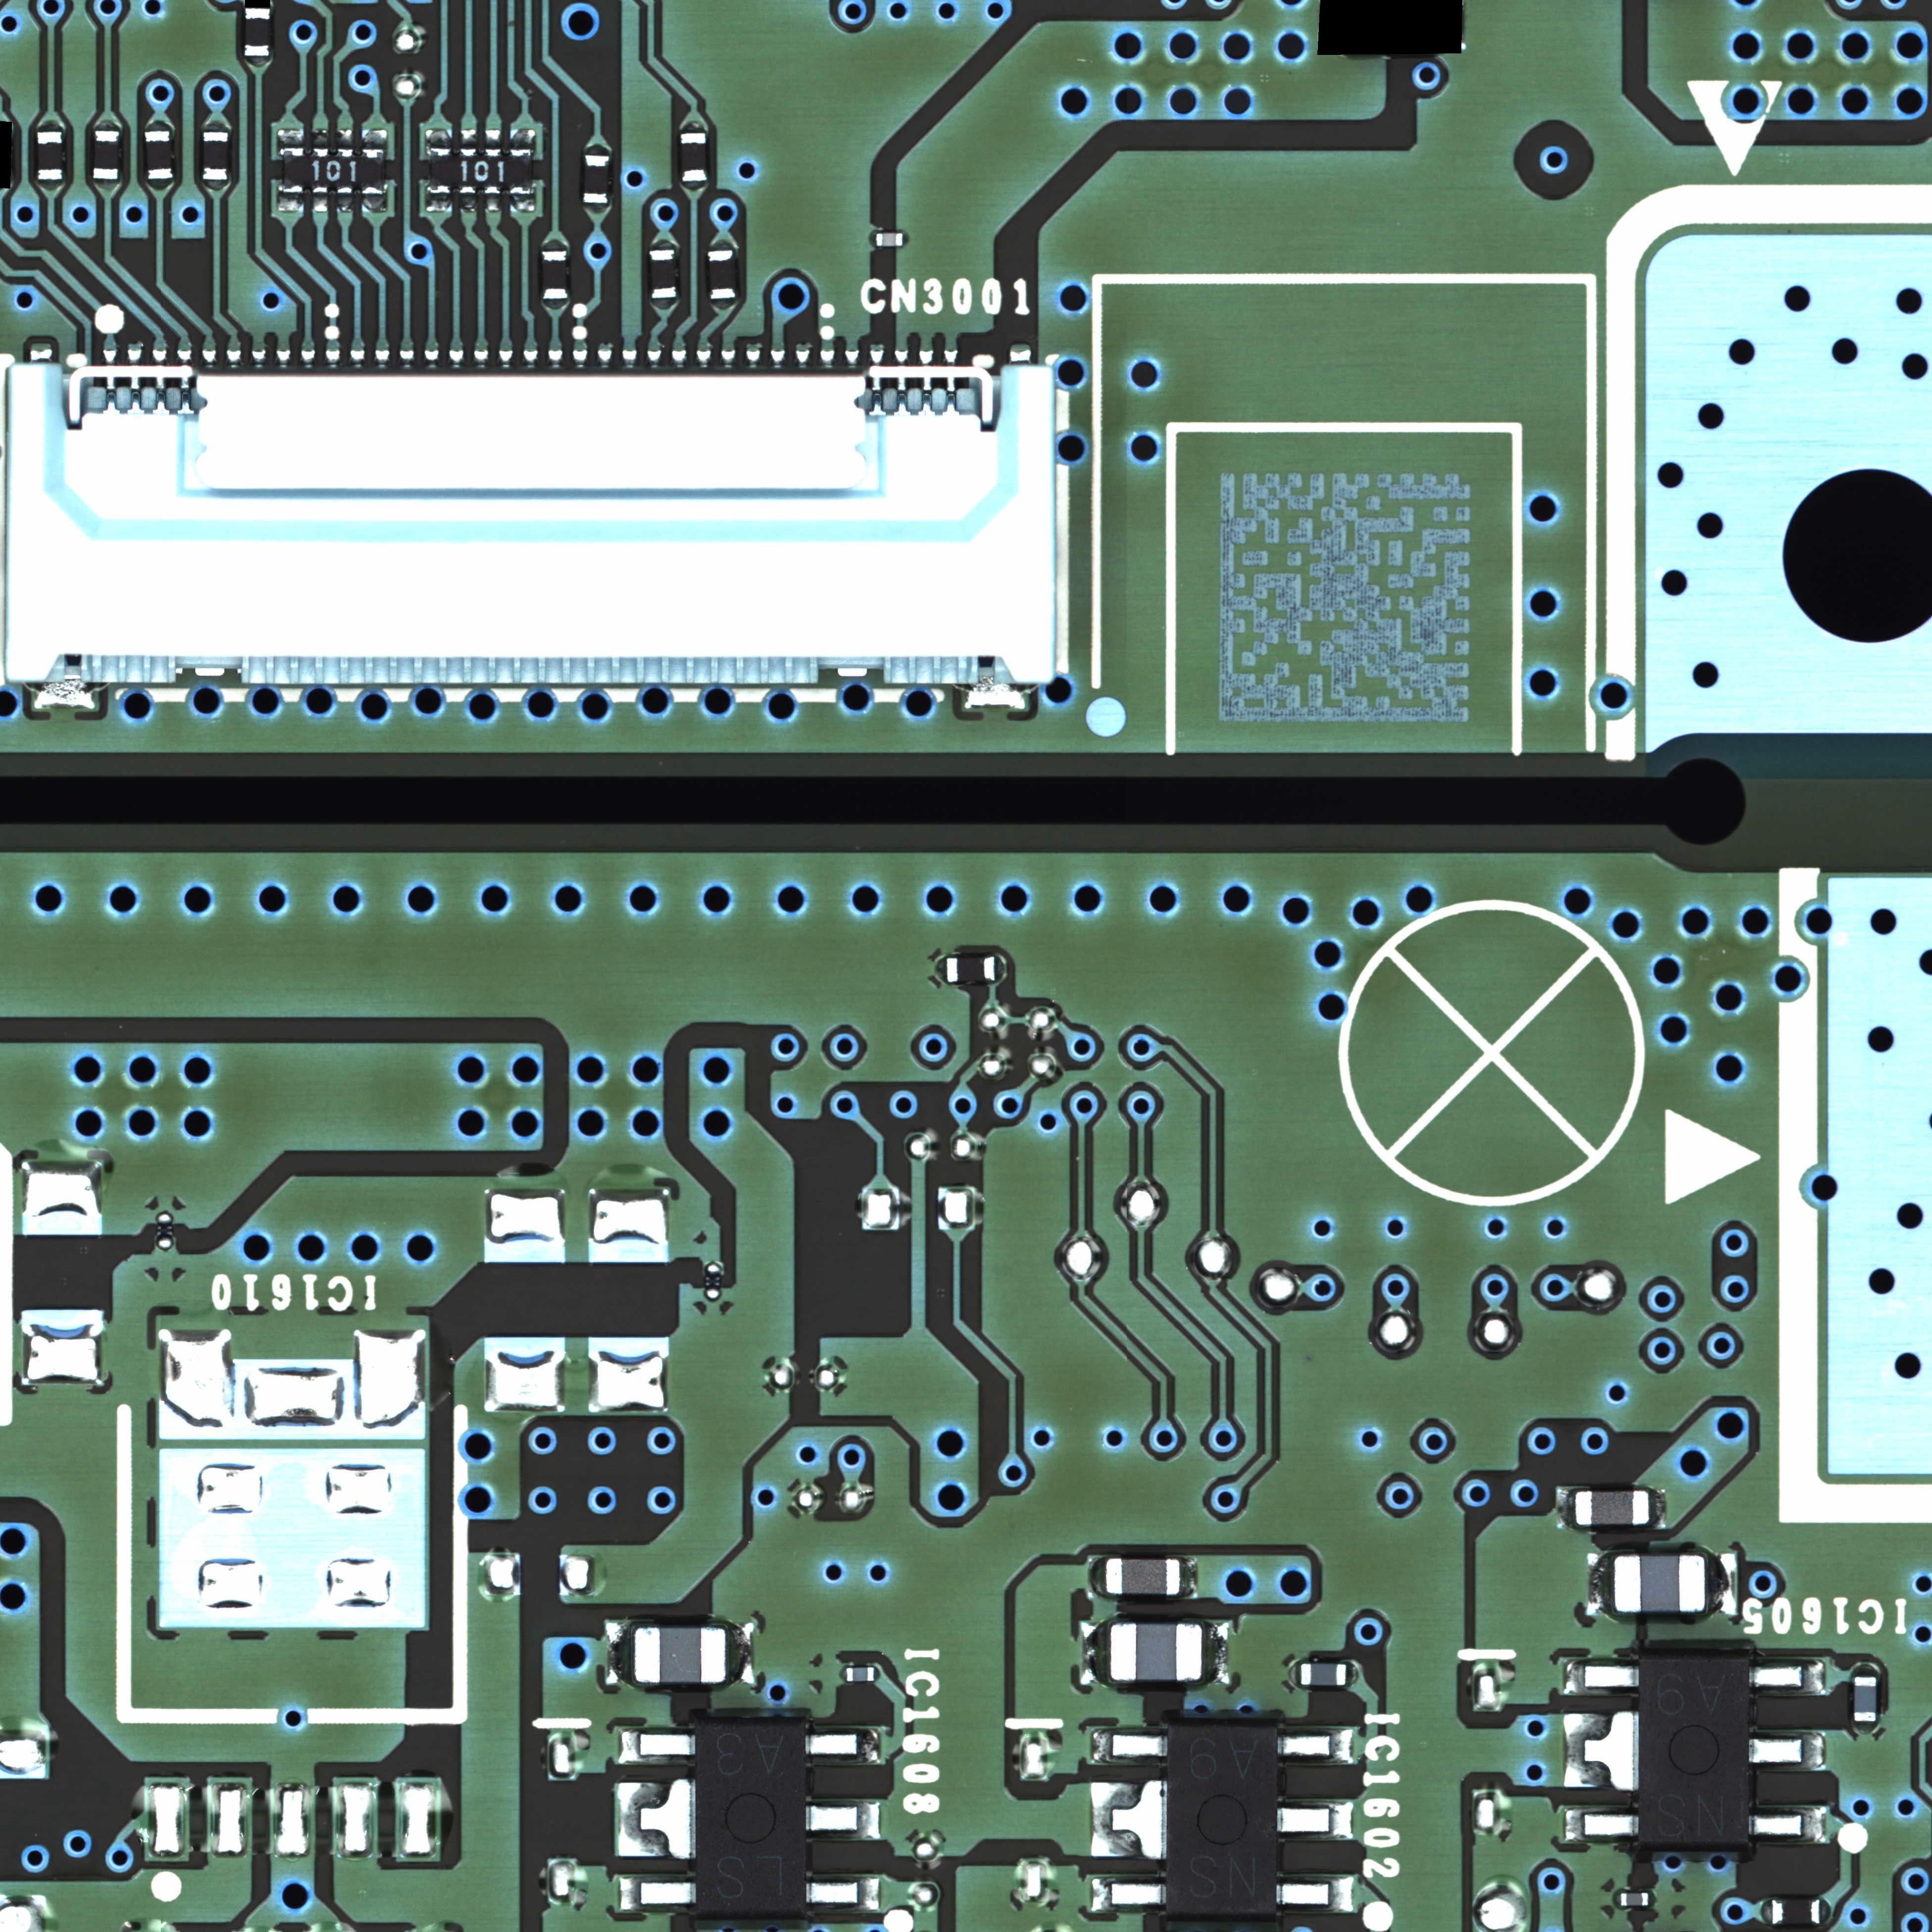Package: (695, 1721, 805, 1911), (1640, 1658, 1748, 1844), (1168, 1727, 1276, 1913), (1111, 1622, 1203, 1681), (633, 1626, 725, 1684), (1614, 1555, 1706, 1612), (430, 147, 529, 193), (283, 149, 384, 193), (1106, 1559, 1180, 1594), (1575, 1491, 1649, 1525), (35, 131, 62, 180), (681, 133, 708, 182), (145, 131, 172, 179), (203, 131, 228, 180), (94, 131, 119, 179), (543, 251, 568, 299), (584, 156, 609, 203), (651, 249, 676, 297), (709, 251, 734, 299), (947, 957, 994, 982), (1773, 1900, 1819, 1925), (246, 7, 269, 57), (1300, 1663, 1346, 1686), (1854, 1677, 1877, 1721), (876, 232, 902, 246), (847, 1667, 874, 1681), (1621, 1893, 1649, 1905)
Solder: (617, 1780, 695, 1859), (1090, 1782, 1168, 1859), (1562, 1713, 1638, 1790), (805, 1801, 881, 1840), (1277, 1801, 1353, 1840), (1750, 1806, 1826, 1844), (1750, 1732, 1826, 1769), (617, 1729, 695, 1764), (1090, 1729, 1168, 1764), (1277, 1729, 1353, 1764), (1277, 1877, 1353, 1913), (1750, 1660, 1826, 1695), (1562, 1660, 1638, 1695), (807, 1729, 881, 1764), (1092, 1877, 1168, 1911), (1564, 1808, 1638, 1842), (807, 1877, 879, 1911), (619, 1877, 695, 1909), (1706, 1553, 1737, 1615), (1081, 1622, 1111, 1684), (725, 1622, 754, 1684), (605, 1622, 633, 1684), (1585, 1553, 1614, 1615), (1203, 1622, 1230, 1684), (510, 182, 536, 212), (361, 129, 387, 157), (510, 129, 536, 157), (363, 182, 387, 212), (1180, 1557, 1198, 1598), (1088, 1557, 1106, 1598), (1649, 1488, 1667, 1529), (1557, 1488, 1575, 1529), (278, 129, 304, 156), (425, 129, 451, 156), (425, 186, 451, 212), (278, 186, 303, 212), (94, 119, 120, 131), (92, 179, 119, 191), (145, 119, 172, 131), (202, 119, 228, 131), (246, 57, 272, 69), (1854, 1721, 1877, 1736), (313, 193, 329, 212), (313, 129, 329, 149), (460, 193, 476, 212), (485, 193, 501, 212), (543, 239, 568, 251), (681, 120, 706, 133), (1346, 1661, 1359, 1686), (1288, 1661, 1300, 1686), (1854, 1663, 1877, 1675), (37, 120, 64, 131), (37, 180, 64, 191), (145, 180, 172, 191), (202, 180, 228, 191), (460, 129, 476, 147), (485, 129, 501, 147), (651, 299, 678, 310), (649, 239, 676, 249), (338, 129, 352, 149), (338, 193, 352, 212), (584, 143, 609, 154), (584, 203, 609, 214), (543, 299, 568, 310), (709, 239, 734, 249), (711, 299, 736, 310), (936, 957, 947, 982), (1821, 1900, 1831, 1925), (1760, 1900, 1771, 1925), (681, 182, 706, 191), (996, 957, 1005, 982), (1612, 1890, 1621, 1907), (869, 230, 876, 248), (902, 232, 909, 248), (839, 1667, 846, 1683), (874, 1667, 881, 1683), (1649, 1891, 1656, 1907)
